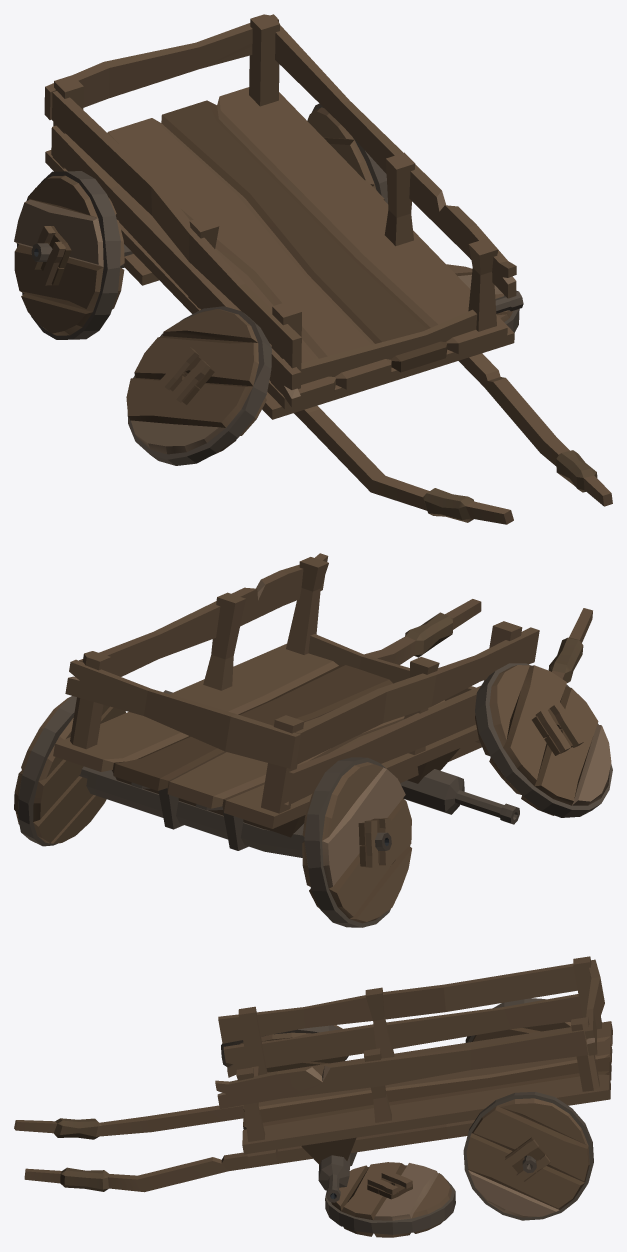
Rendered from env_cart.gltf.
The picture shows the model from 3 angles, top to bottom: view 1: azimuth 30°, elevation 25°; view 2: azimuth 150°, elevation 25°; view 3: azimuth 270°, elevation 25°; orthographic projection. The views are drawn at different scales.
Visible parts, largest first — view 1: env_cart; view 2: env_cart; view 3: env_cart.
Boxes of the visible parts, left/top/right/bottom form: env_cart: left=14, top=14, right=612, bottom=524; env_cart: left=14, top=553, right=612, bottom=927; env_cart: left=14, top=956, right=612, bottom=1237.
Bounding box in the file's own units: 2.28 × 1.18 × 3.58.
Materials: 1 (1 with a texture image).
